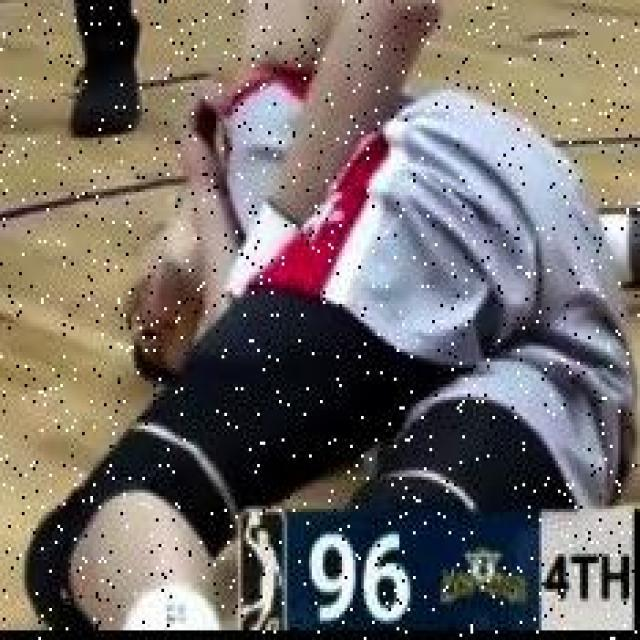fall: (88, 44, 612, 506)
